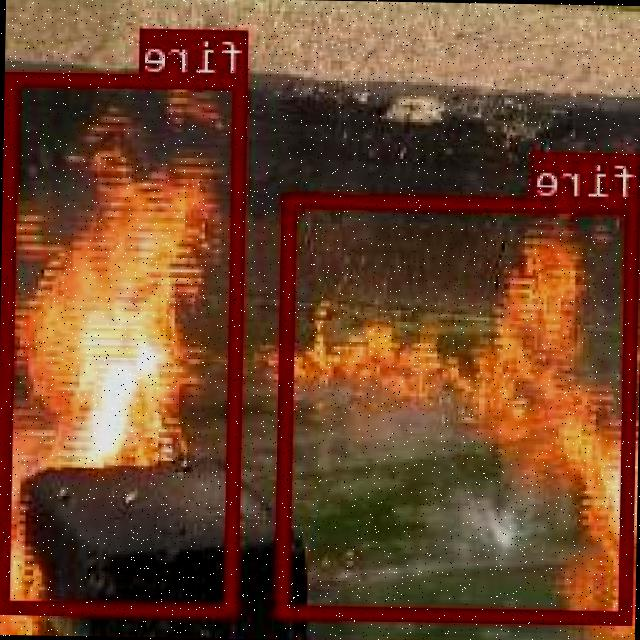fire: (278, 192, 640, 622), (1, 70, 248, 612)
